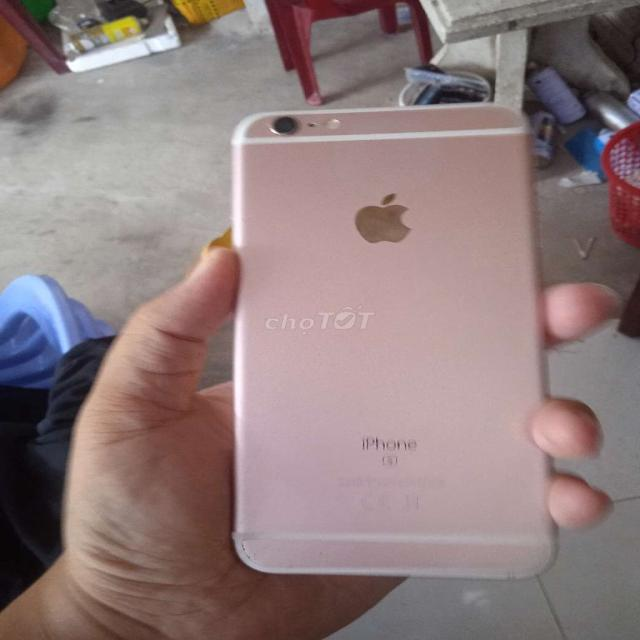scratch: (236, 530, 266, 562)
